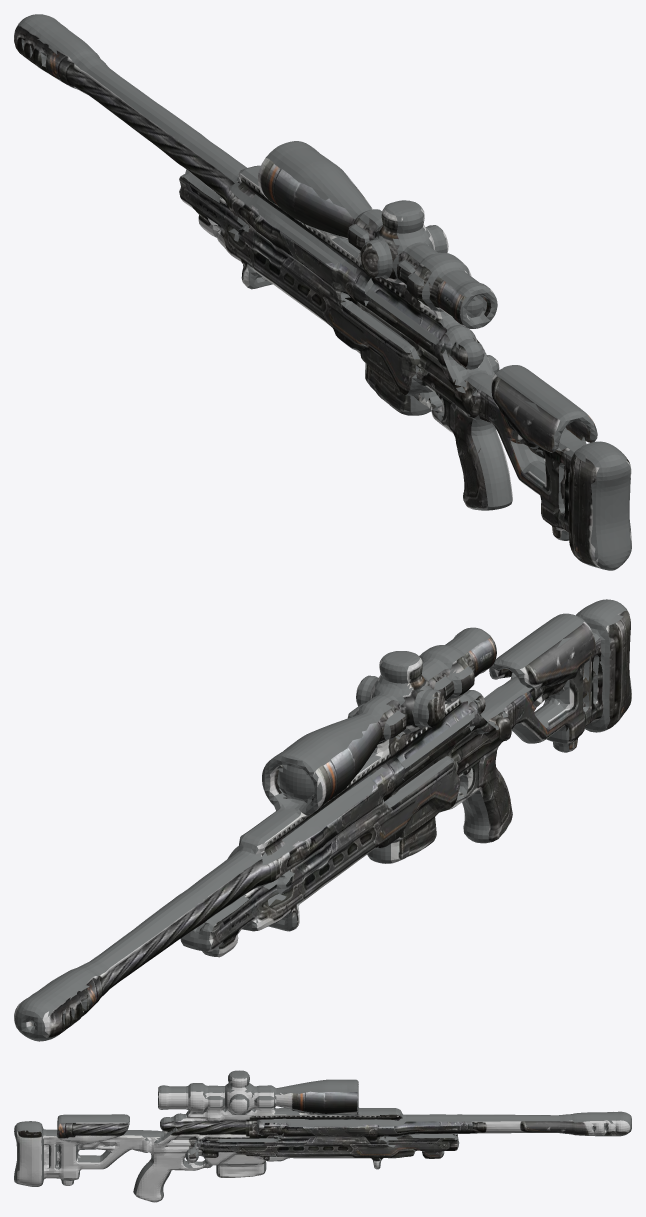
The model's file is longbow.glb.
3 views of the same model, one above another, from view 1: azimuth 30°, elevation 25°; view 2: azimuth 150°, elevation 25°; view 3: azimuth 270°, elevation 25° (orthographic). The views are drawn at different scales.
Parts seen in each view (by area): view 1: geometry_0; view 2: geometry_0; view 3: geometry_0.
Part boxes in pixels (box(x1,y1,x2,y2)): geometry_0: box(14, 14, 631, 570); geometry_0: box(14, 599, 631, 1041); geometry_0: box(14, 1070, 631, 1202).
Size of the model in its own units: 0.1001 by 0.262 by 1.15.
Materials: 1 (1 with a texture image).
